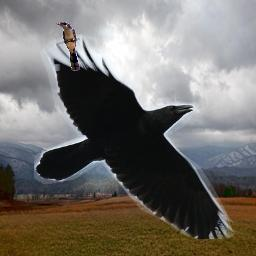Crow: (34, 33, 234, 239)
Cuckoo: (56, 22, 80, 71)
